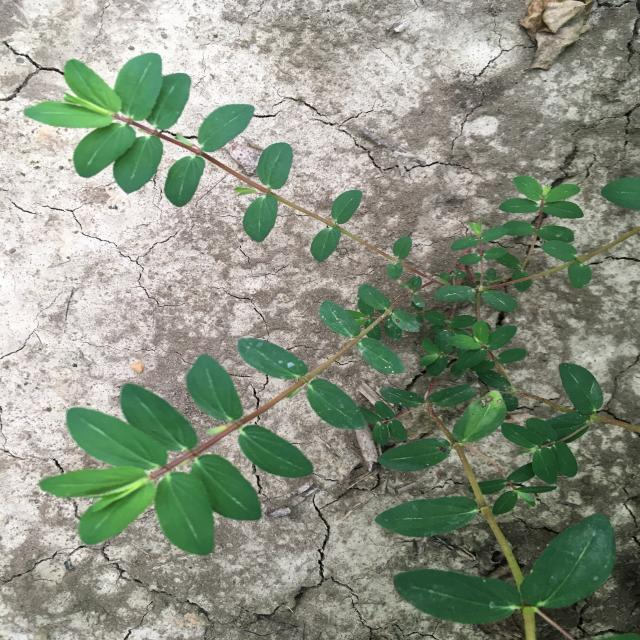SpottedSpurge: (24, 52, 639, 640)
